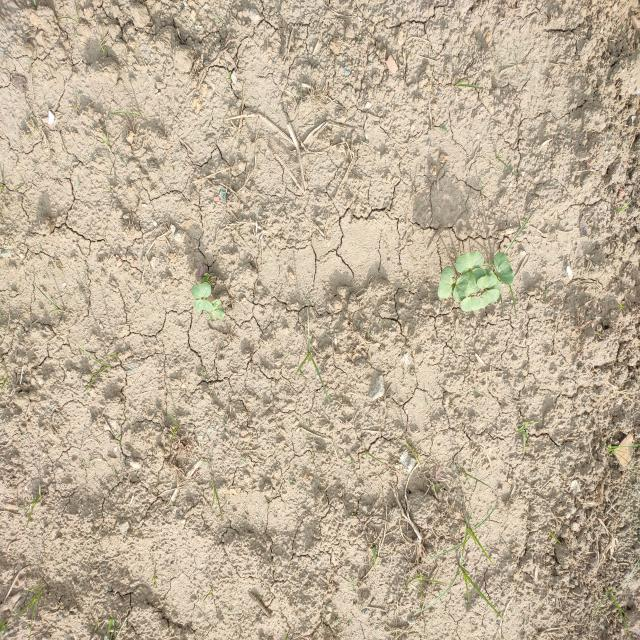seedling: (494, 252, 514, 286), (455, 250, 484, 273), (465, 267, 486, 297), (437, 266, 455, 299), (453, 275, 469, 302), (480, 289, 499, 308), (461, 296, 483, 312), (191, 282, 211, 299), (477, 273, 498, 288), (193, 299, 213, 312), (209, 309, 225, 321), (210, 300, 222, 311)
